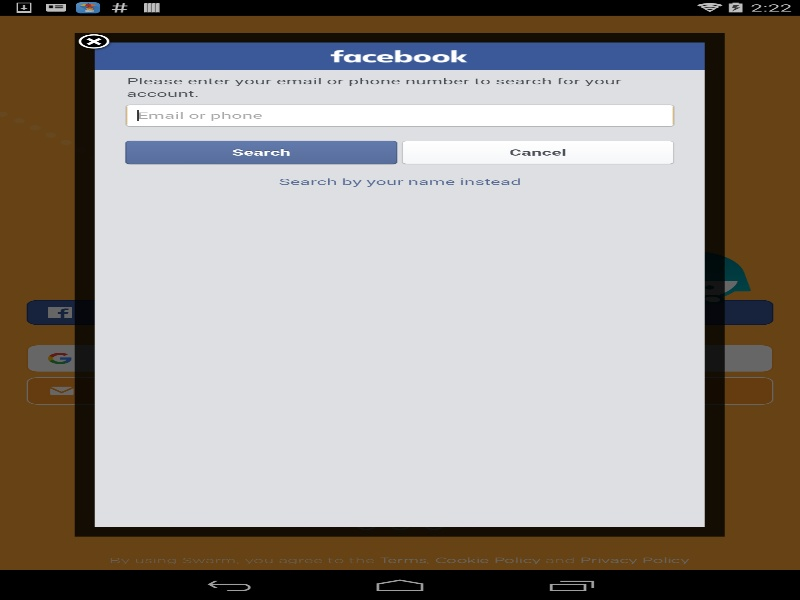Button: (398, 139, 677, 165), (126, 141, 396, 163)
Input: (126, 105, 673, 126)
